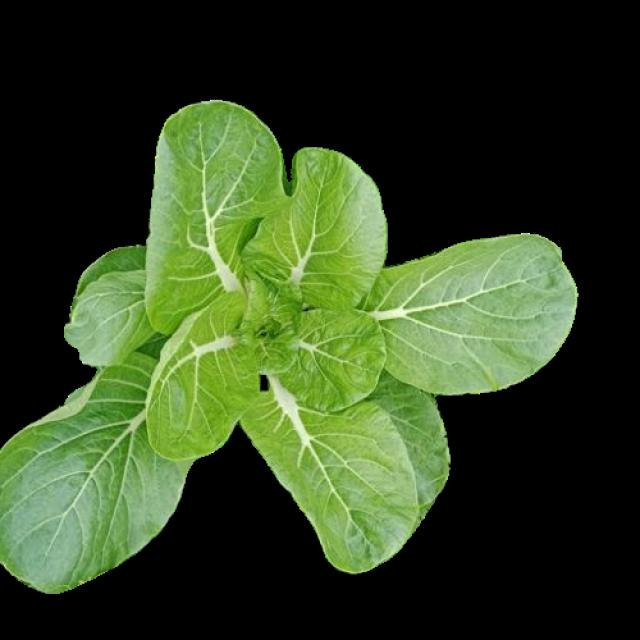healthy: (1, 99, 574, 588)
mature: (1, 101, 574, 591)
